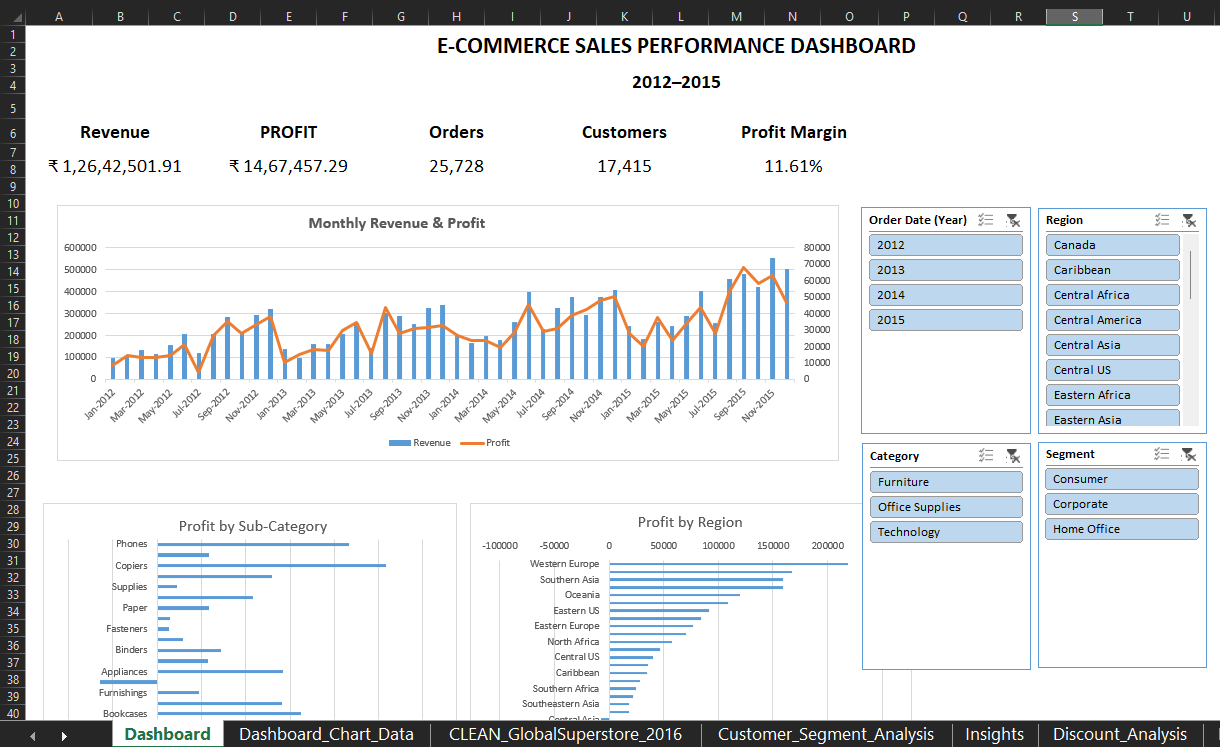

This screenshot's page, from the dashboard's own definition file:
{"tool":"powerbi","page":{"name":"Executive Overview","canvas":[1920,1080],"ordinal":0},"visuals":[{"type":"cardVisual","fields":{"Data":["CLEAN_GlobalSuperstore_2016.Total Revenue"]},"box":[0,0,210,280],"z":0},{"type":"cardVisual","fields":{"Data":["CLEAN_GlobalSuperstore_2016.Total Profit"]},"box":[210,0,260,280],"z":1000},{"type":"cardVisual","fields":{"Data":["CLEAN_GlobalSuperstore_2016.Total Orders"]},"box":[470,2.5,146.7,280],"z":2000},{"type":"cardVisual","fields":{"Data":["CLEAN_GlobalSuperstore_2016.Total Customers"]},"box":[617.5,0,157.5,280],"z":3000},{"type":"lineClusteredColumnComboChart","title":"Monthly Revenue & Profit","fields":{"Category":["DateTable.Year Month"],"Y":["CLEAN_GlobalSuperstore_2016.Total Revenue"],"Y2":["CLEAN_GlobalSuperstore_2016.Total Profit"]},"box":[0,280,907.5,322.5],"z":4000},{"type":"clusteredBarChart","title":"Profit by Sub-Category","fields":{"Category":["CLEAN_GlobalSuperstore_2016.Sub-Category"],"Y":["CLEAN_GlobalSuperstore_2016.Total Profit"]},"box":[907.5,282.5,1012.5,322.5],"z":5000},{"type":"clusteredBarChart","title":"Profit by Region","fields":{"Category":["CLEAN_GlobalSuperstore_2016.Region"],"Y":["CLEAN_GlobalSuperstore_2016.Total Profit"]},"box":[0,602.5,905,477.5],"z":6000},{"type":"slicer","title":"Year","fields":{"Values":["DateTable.Year"]},"box":[905,0,1012.5,280],"z":7000},{"type":"slicer","title":"Region","fields":{"Values":["CLEAN_GlobalSuperstore_2016.Region"]},"box":[1290,802.5,630,277.5],"z":8000},{"type":"slicer","title":"Category","fields":{"Values":["CLEAN_GlobalSuperstore_2016.Category"]},"box":[1287.5,602.5,630,235],"z":9000},{"type":"slicer","title":"Segment","fields":{"Values":["CLEAN_GlobalSuperstore_2016.Segment"]},"box":[905,605,382.5,475],"z":10000},{"type":"cardVisual","fields":{"Data":["CLEAN_GlobalSuperstore_2016.Profit Margin"]},"box":[755,2.5,150,280],"z":11000}]}

Visuals, with their boxes on the page's 1920x1080 design canvas (x1, y1, x2, y2). These are canvas units, not pixel positions in the 1220x747 screenshot, which may show the page scaled, cropped or inside an application window:
cardVisual - CLEAN_GlobalSuperstore_2016.Total Revenue: {"left": 0, "top": 0, "right": 210, "bottom": 280}
cardVisual - CLEAN_GlobalSuperstore_2016.Total Profit: {"left": 210, "top": 0, "right": 470, "bottom": 280}
cardVisual - CLEAN_GlobalSuperstore_2016.Total Orders: {"left": 470, "top": 2, "right": 617, "bottom": 282}
cardVisual - CLEAN_GlobalSuperstore_2016.Total Customers: {"left": 618, "top": 0, "right": 775, "bottom": 280}
"Monthly Revenue & Profit" lineClusteredColumnComboChart: {"left": 0, "top": 280, "right": 908, "bottom": 602}
"Profit by Sub-Category" clusteredBarChart: {"left": 908, "top": 282, "right": 1920, "bottom": 605}
"Profit by Region" clusteredBarChart: {"left": 0, "top": 602, "right": 905, "bottom": 1080}
"Year" slicer: {"left": 905, "top": 0, "right": 1918, "bottom": 280}
"Region" slicer: {"left": 1290, "top": 802, "right": 1920, "bottom": 1080}
"Category" slicer: {"left": 1288, "top": 602, "right": 1918, "bottom": 838}
"Segment" slicer: {"left": 905, "top": 605, "right": 1288, "bottom": 1080}
cardVisual - CLEAN_GlobalSuperstore_2016.Profit Margin: {"left": 755, "top": 2, "right": 905, "bottom": 282}
